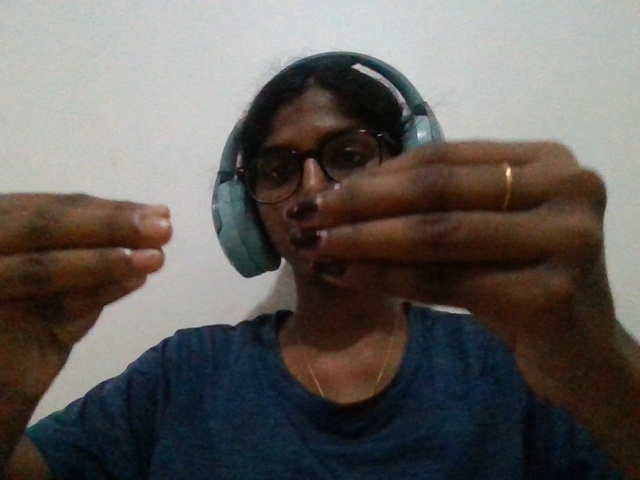More: (2, 127, 624, 470)
